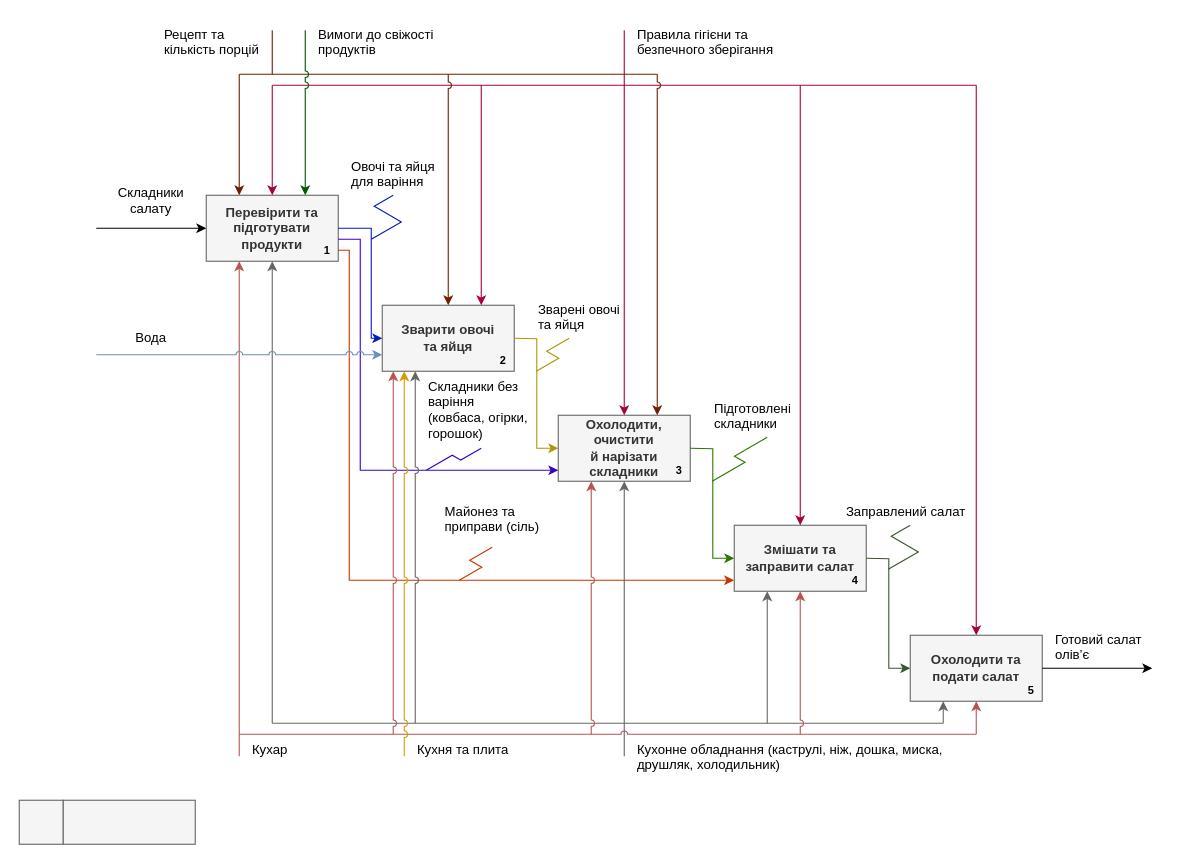
This 1194x864 diagram has some shape labels left out. Here are the shapes that lost their labels. From the top down, the centre of each, then its label:
At point 40,821: "A0".
At point 128,821: "Виготовлення олів'є".
